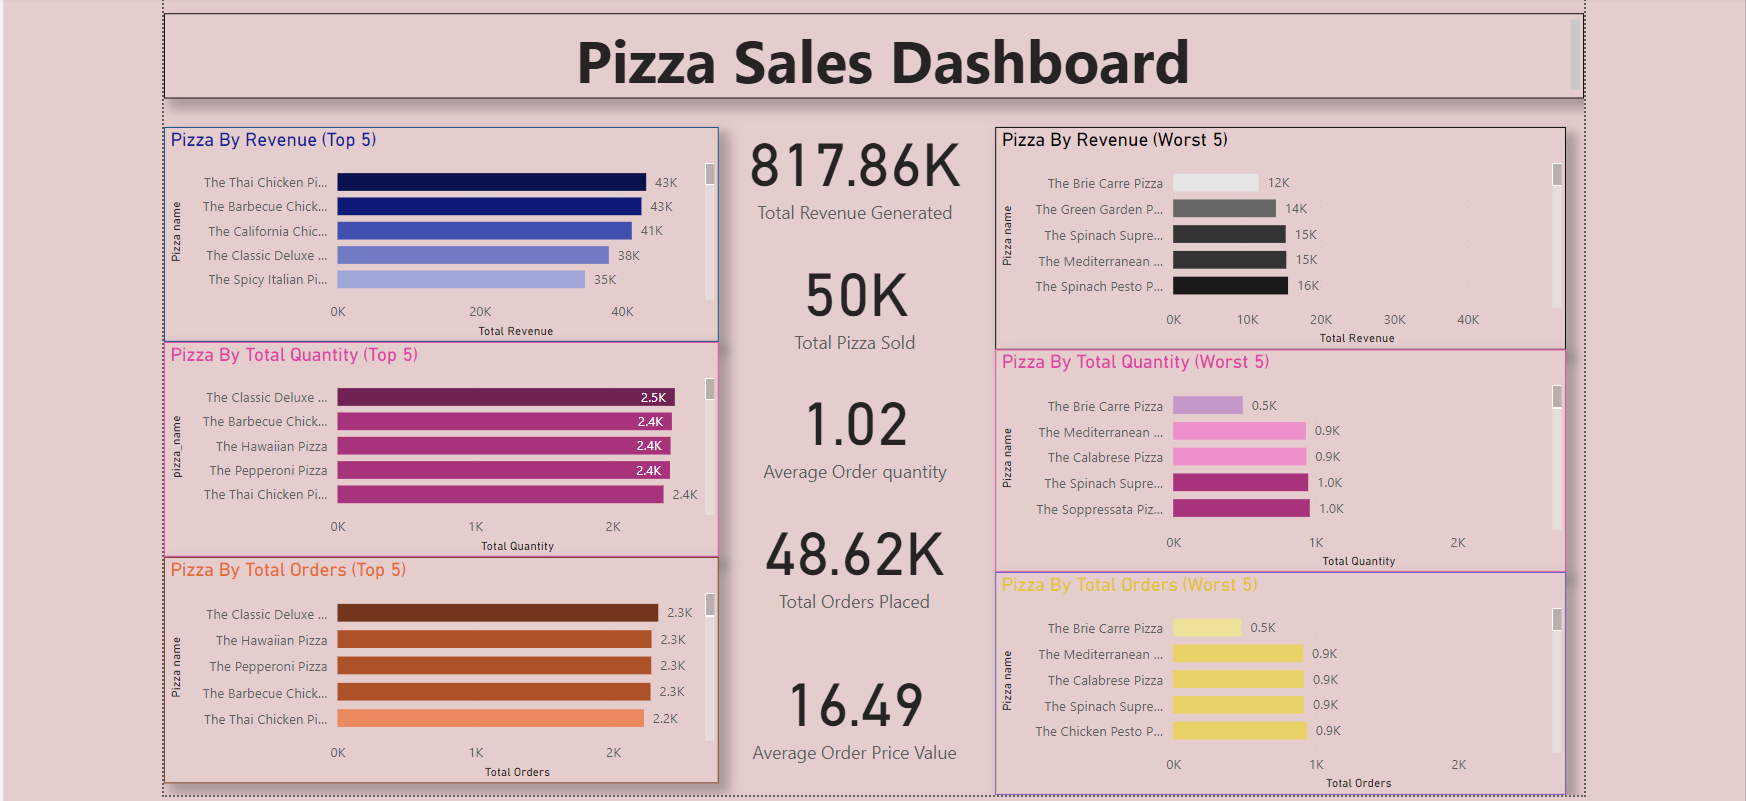

This screenshot's page, from the dashboard's own definition file:
{"tool":"powerbi","page":{"name":"Page 1","canvas":[1280,720],"ordinal":0},"visuals":[{"type":"card","fields":{"Values":["Sum(pizza_sales.total_price)"]},"box":[516,96.9,213.8,116.9],"z":0},{"type":"card","fields":{"Values":["Sum(pizza_sales.quantity)"]},"box":[516,213.8,213.8,116.9],"z":1000},{"type":"card","fields":{"Values":["Avg(pizza_sales.quantity)"]},"box":[516,330.7,213.8,116.9],"z":2000},{"type":"card","fields":{"Values":["CountNonNull(pizza_sales.quantity)"]},"box":[514.6,447.6,215.2,116.9],"z":3000},{"type":"card","fields":{"Values":["Avg(pizza_sales.unit_price)"]},"box":[514.6,564.5,215.2,155.4],"z":4000},{"type":"clusteredBarChart","title":"Pizza By Revenue (Top 5)","fields":{"Y":["Sum(pizza_sales.total_price)"],"Category":["pizza_sales.pizza_name"]},"box":[0,116.9,500.3,193.9],"z":5000},{"type":"clusteredBarChart","title":"Pizza By Total Quantity (Top 5)","fields":{"Category":["pizza_sales.pizza_name"],"Y":["Sum(pizza_sales.quantity)"]},"box":[0,310.7,500.3,193.9],"z":6000},{"type":"clusteredBarChart","title":"Pizza By Total Orders (Top 5)","fields":{"Category":["pizza_sales.pizza_name"],"Y":["Count(pizza_sales.order_id)"]},"box":[0,504.6,500.3,203.8],"z":7000},{"type":"clusteredBarChart","title":"Pizza By Revenue (Worst 5)","fields":{"Category":["pizza_sales.pizza_name"],"Y":["Sum(pizza_sales.total_price)"]},"box":[749.8,116.9,514.6,201],"z":8000},{"type":"clusteredBarChart","title":"Pizza By Total Quantity (Worst 5)","fields":{"Category":["pizza_sales.pizza_name"],"Y":["Sum(pizza_sales.quantity)"]},"box":[749.8,317.9,514.6,201],"z":9000},{"type":"clusteredBarChart","title":"Pizza By Total Orders (Worst 5)","fields":{"Category":["pizza_sales.pizza_name"],"Y":["Count(pizza_sales.order_id)"]},"box":[749.8,518.8,514.6,201],"z":10000},{"type":"textbox","box":[0,14.3,1280,77],"z":11000}]}

Visuals, with their boxes on the page's 1280x720 design canvas (x1, y1, x2, y2). These are canvas units, not pixel positions in the 1746x801 screenshot, which may show the page scaled, cropped or inside an application window:
card - Sum(pizza_sales.total_price): {"x1": 516, "y1": 97, "x2": 730, "y2": 214}
card - Sum(pizza_sales.quantity): {"x1": 516, "y1": 214, "x2": 730, "y2": 331}
card - Avg(pizza_sales.quantity): {"x1": 516, "y1": 331, "x2": 730, "y2": 448}
card - CountNonNull(pizza_sales.quantity): {"x1": 515, "y1": 448, "x2": 730, "y2": 564}
card - Avg(pizza_sales.unit_price): {"x1": 515, "y1": 564, "x2": 730, "y2": 720}
"Pizza By Revenue (Top 5)" clusteredBarChart: {"x1": 0, "y1": 117, "x2": 500, "y2": 311}
"Pizza By Total Quantity (Top 5)" clusteredBarChart: {"x1": 0, "y1": 311, "x2": 500, "y2": 505}
"Pizza By Total Orders (Top 5)" clusteredBarChart: {"x1": 0, "y1": 505, "x2": 500, "y2": 708}
"Pizza By Revenue (Worst 5)" clusteredBarChart: {"x1": 750, "y1": 117, "x2": 1264, "y2": 318}
"Pizza By Total Quantity (Worst 5)" clusteredBarChart: {"x1": 750, "y1": 318, "x2": 1264, "y2": 519}
"Pizza By Total Orders (Worst 5)" clusteredBarChart: {"x1": 750, "y1": 519, "x2": 1264, "y2": 720}
textbox: {"x1": 0, "y1": 14, "x2": 1280, "y2": 91}
